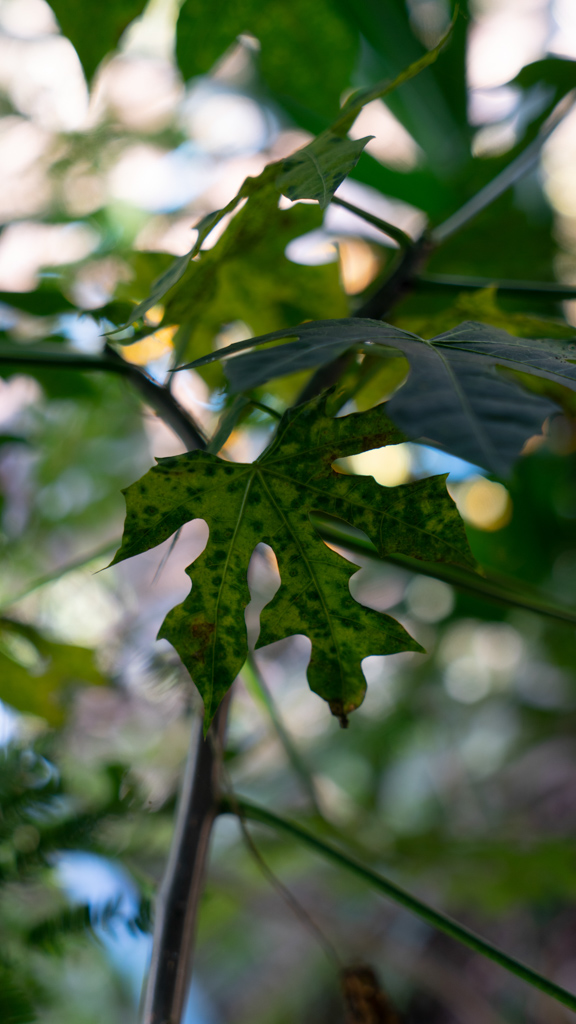Alternaria brassicicola: (103, 410, 480, 733)
